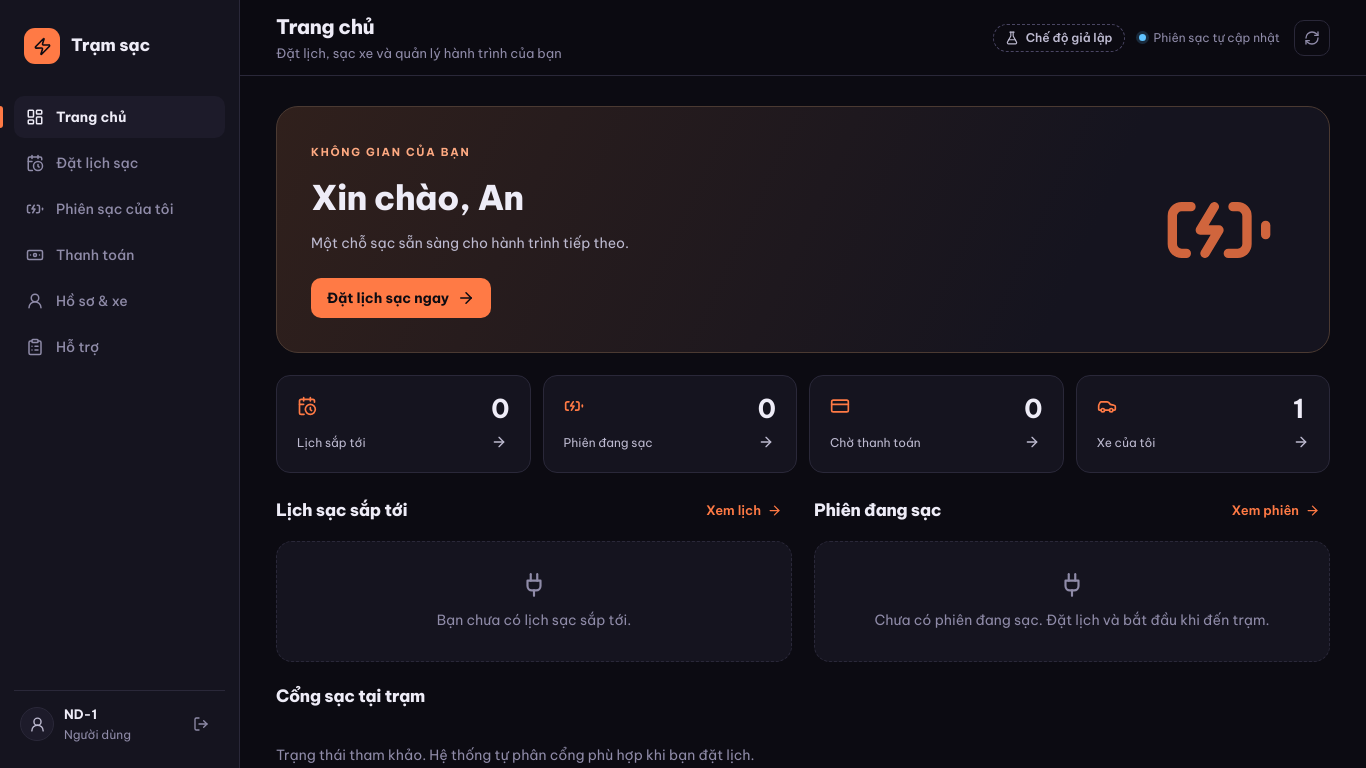
Test: Authenticated UI › does not overlap slow session polling and eventually renders the response
Click the button "Phiên sạc của tôi": (120, 209) [14,188,225,230]
Wait 16000 ms
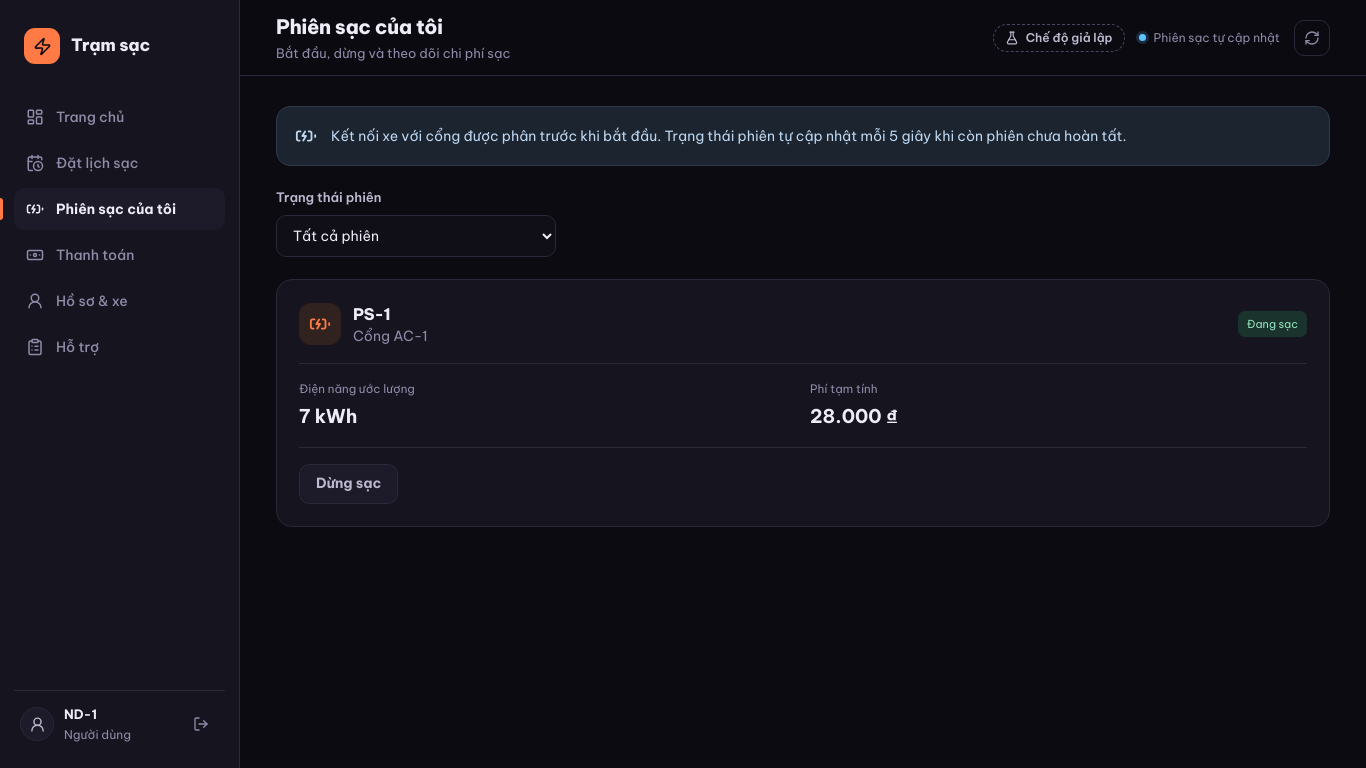
Expected: the text "7 kWh" is shown, [299,404,357,428]
